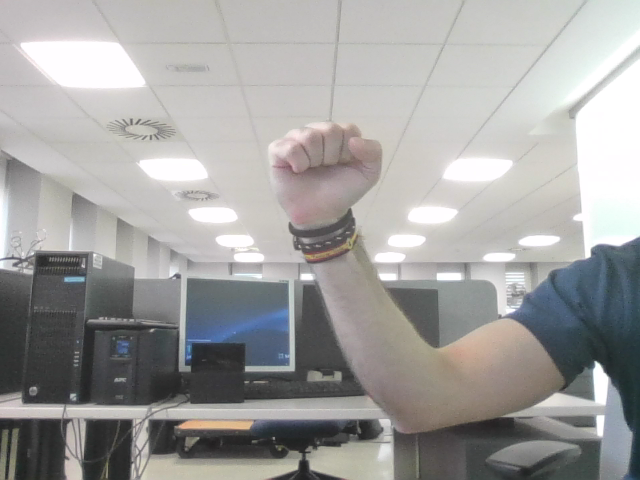Puño: (281, 129, 370, 196)
